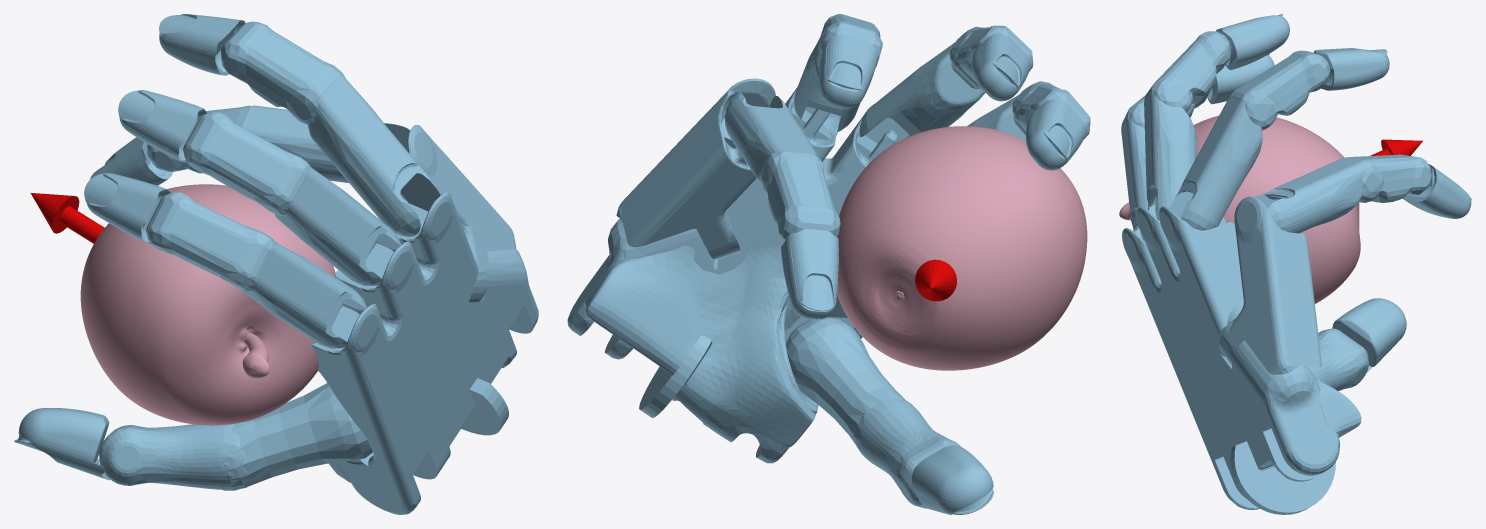
3 renders of one model, left to right at view 1: azimuth 30°, elevation 25°; view 2: azimuth 150°, elevation 25°; view 3: azimuth 270°, elevation 25°, orthographic. The views are drawn at different scales.
Parts seen in each view (by area): view 1: world, apple.stl; view 2: world, apple.stl; view 3: world, apple.stl.
Boxes of the visible parts, bbox=[...] form: world: bbox=[14, 14, 538, 514]; apple.stl: bbox=[80, 184, 335, 425]; world: bbox=[567, 14, 1090, 514]; apple.stl: bbox=[837, 126, 1087, 370]; world: bbox=[1121, 14, 1471, 514]; apple.stl: bbox=[1119, 115, 1360, 303].
Size of the model in its own units: 0.1677 by 0.166 by 0.1288.
